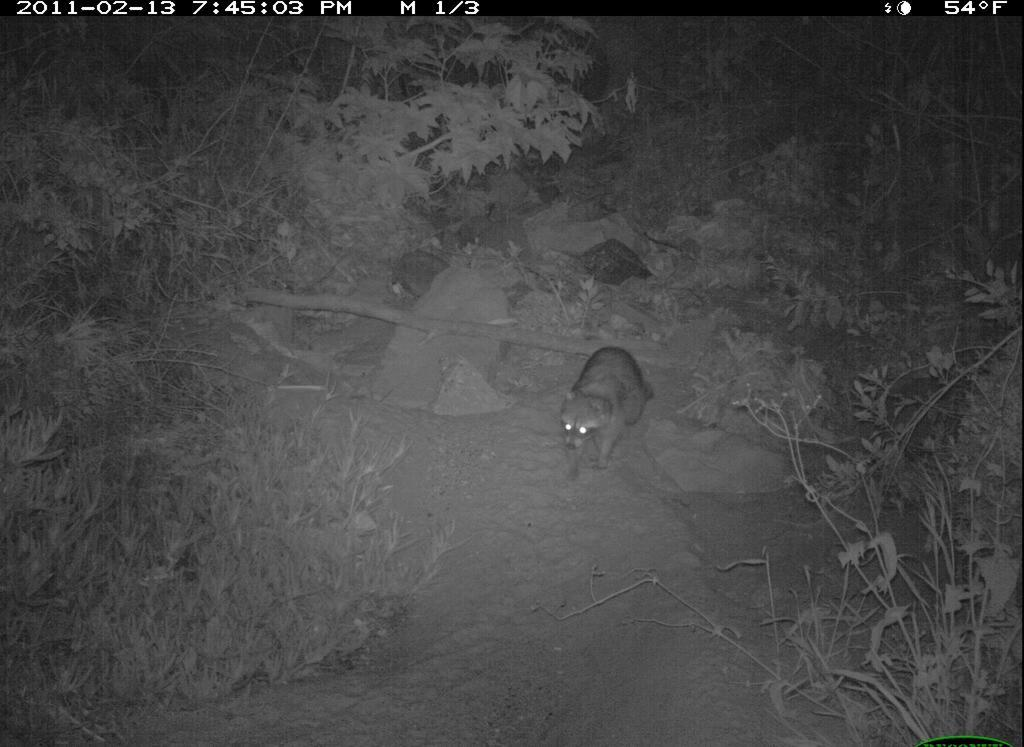raccoon: (552, 329, 669, 479)
